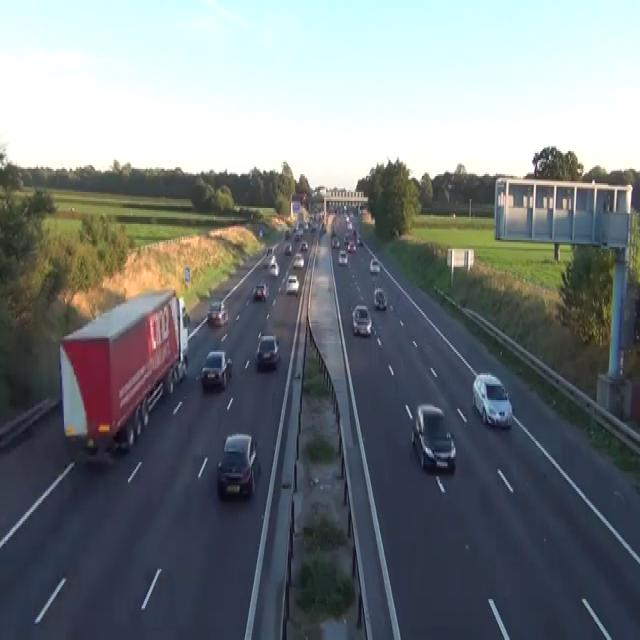Car: (411, 404, 456, 471), (217, 432, 258, 498), (472, 372, 512, 428), (331, 208, 362, 267), (200, 350, 233, 390), (255, 332, 279, 370), (351, 304, 372, 336), (206, 299, 228, 325), (373, 286, 387, 310), (178, 297, 189, 325), (285, 274, 299, 295), (253, 281, 268, 300), (369, 258, 380, 274), (293, 252, 304, 268), (264, 252, 276, 266), (337, 249, 347, 265), (268, 262, 279, 276), (178, 295, 185, 313), (331, 235, 340, 247), (347, 240, 356, 252), (269, 254, 277, 267), (284, 242, 292, 254), (300, 240, 308, 251), (284, 228, 292, 238), (343, 233, 350, 243), (309, 222, 316, 231), (356, 235, 362, 245), (266, 246, 273, 254), (321, 222, 326, 233), (294, 231, 300, 240), (347, 220, 352, 230), (303, 220, 308, 230), (259, 228, 262, 236), (451, 212, 455, 218)
Truck: (59, 286, 189, 455)
